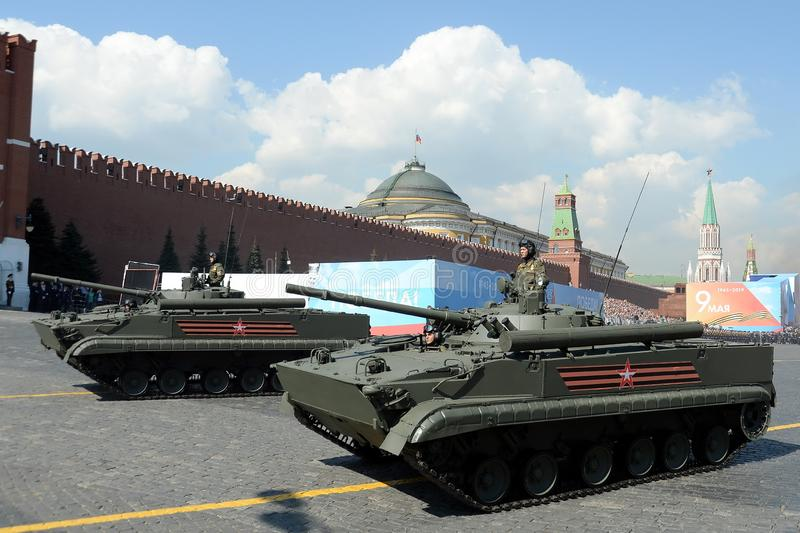bmp3: (282, 271, 773, 505)
